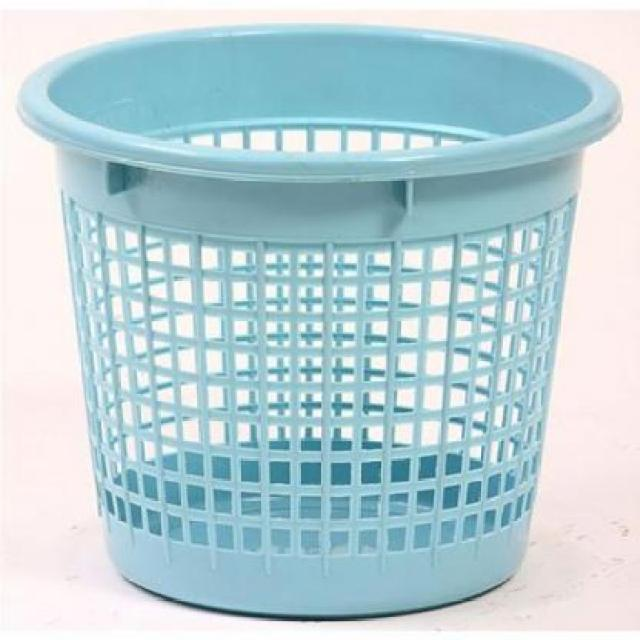dustbin: (11, 18, 625, 622)
